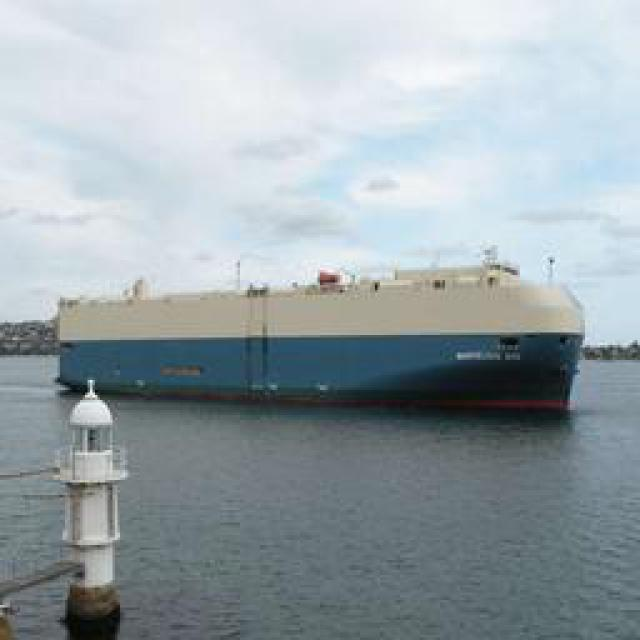Ship: (57, 259, 585, 414)
